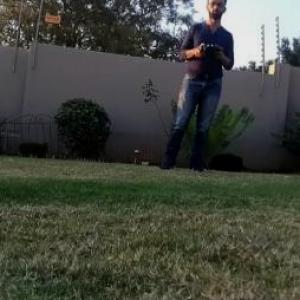follow: (152, 0, 238, 177)
